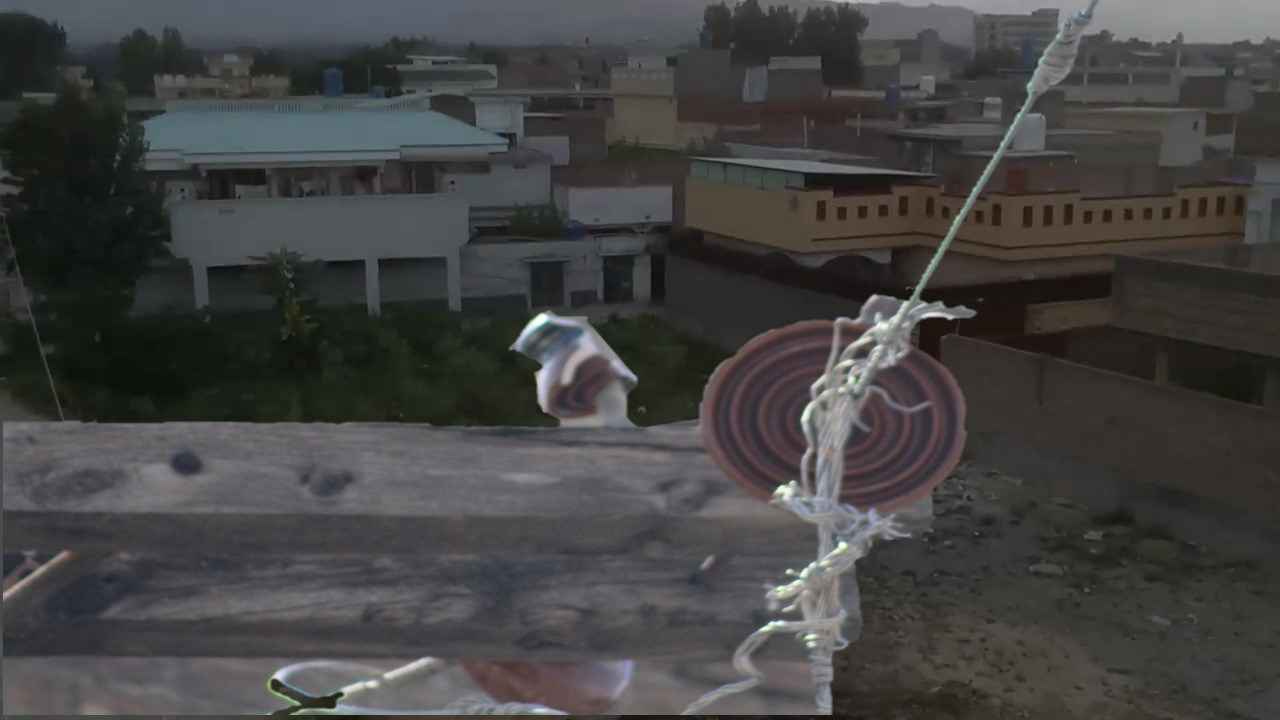defect_pin: (501, 295, 645, 427)
insulator_disc: (696, 309, 975, 533)
